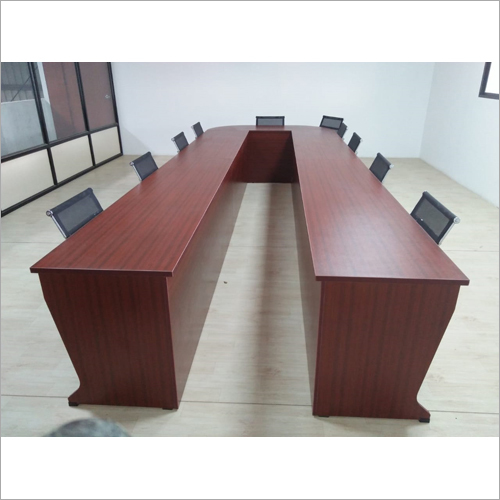conference_table: (31, 124, 471, 423)
